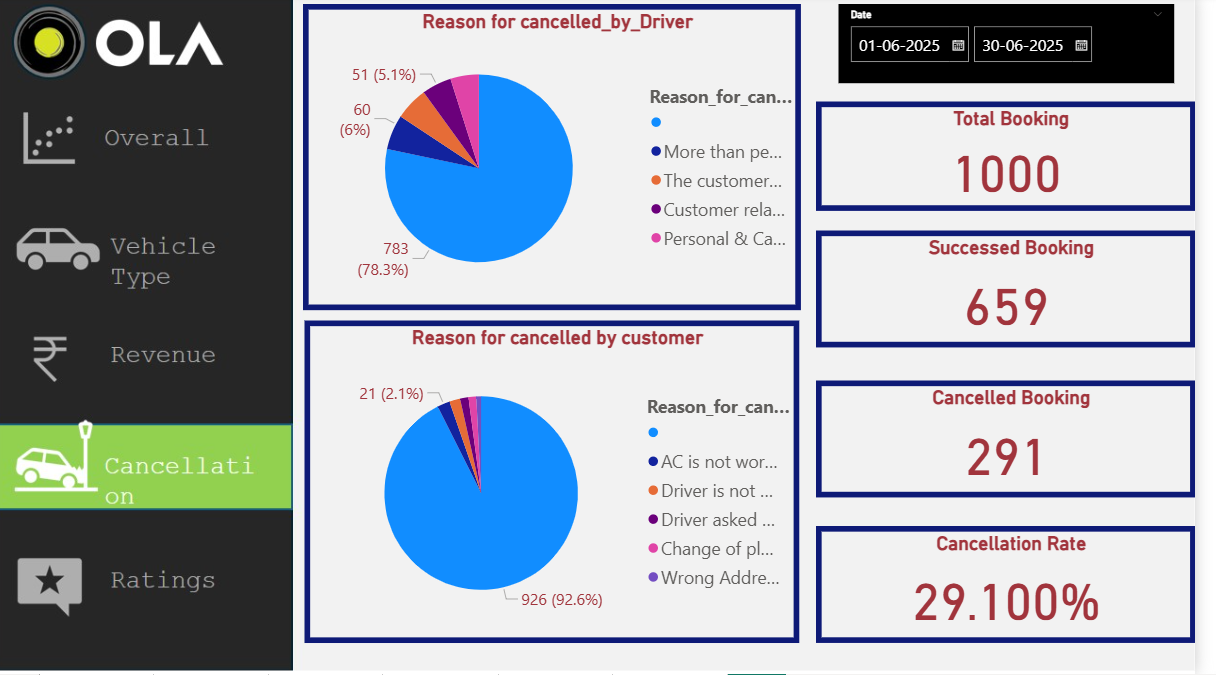

What the dashboard file says about the page in this screenshot:
{"tool":"powerbi","page":{"name":"Page 4","canvas":[1280,720],"ordinal":3},"visuals":[{"type":"pieChart","title":"Reason for cancelled by customer","fields":{"Y":["CountNonNull(OLA_Booking.Reason_for_cancelling_by_Customer)"],"Category":["OLA_Booking.Reason_for_cancelling_by_Customer"]},"box":[335.6,345.2,524.9,342],"z":0},{"type":"pieChart","title":" Reason for cancelled_by_Driver","fields":{"Category":["OLA_Booking.Reason_for_cancelling_by_Driver"],"Y":["CountNonNull(OLA_Booking.Reason_for_cancelling_by_Driver)"]},"box":[334,9.5,528.1,324.5],"z":1000},{"type":"slicer","fields":{"Values":["OLA_Booking.Date"]},"box":[901.9,9.5,356.3,84.3],"z":2000},{"type":"card","title":"Total Booking","fields":{"Values":["CountNonNull(OLA_Booking.Booking_ID)"]},"box":[878,112.9,402.4,116.1],"z":3000},{"type":"card","title":"Successed Booking","fields":{"Values":["CountNonNull(OLA_Booking.Booking_Status)"]},"box":[878,249.7,402.4,124.1],"z":4000},{"type":"card","title":"Cancelled Booking","fields":{"Values":["CountNonNull(OLA_Booking.Booking_Status)"]},"box":[878,408.8,402.4,124.1],"z":5000},{"type":"actionButton","box":[27,236.5,246,87.3],"z":6000},{"type":"actionButton","box":[27,112.7,246,87.3],"z":7000},{"type":"actionButton","box":[27,573,255.6,82.5],"z":8000},{"type":"actionButton","box":[36.5,344.4,246,87.3],"z":9000},{"type":"card","title":"Cancellation Rate","fields":{"Values":["Avg(OLA_Booking.cancelled percentage)"]},"box":[878,563.1,402.4,124.1],"z":10000}]}

Visuals, with their boxes in screenshot pixels (x1, y1, x2, y2):
"Reason for cancelled by customer" pieChart: bbox=(310, 319, 795, 635)
" Reason for cancelled_by_Driver" pieChart: bbox=(309, 9, 796, 309)
slicer - OLA_Booking.Date: bbox=(833, 9, 1162, 87)
"Total Booking" card: bbox=(811, 104, 1183, 212)
"Successed Booking" card: bbox=(811, 231, 1183, 345)
"Cancelled Booking" card: bbox=(811, 378, 1183, 492)
actionButton: bbox=(25, 218, 252, 299)
actionButton: bbox=(25, 104, 252, 185)
actionButton: bbox=(25, 529, 261, 606)
actionButton: bbox=(34, 318, 261, 399)
"Cancellation Rate" card: bbox=(811, 520, 1183, 635)
